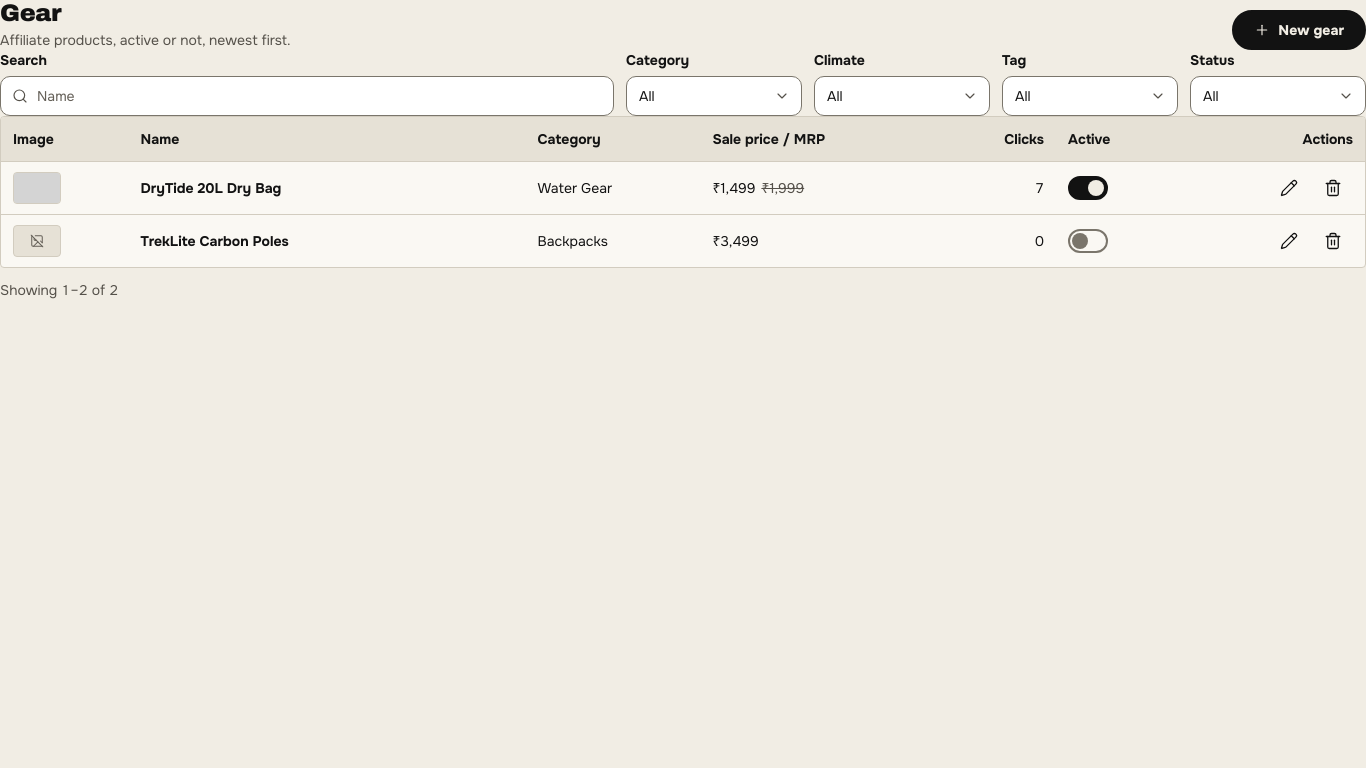
Test: GearPage › deletes an item after asking, naming it
This screenshot has width=1366, height=768.
expect the text "DryTide 20L Dry Bag" is shown: met, box 129,162 -> 526,215
Click the button named "Delete DryTide 20L Dry Bag": (1333, 188) 1313,168 -> 1353,208
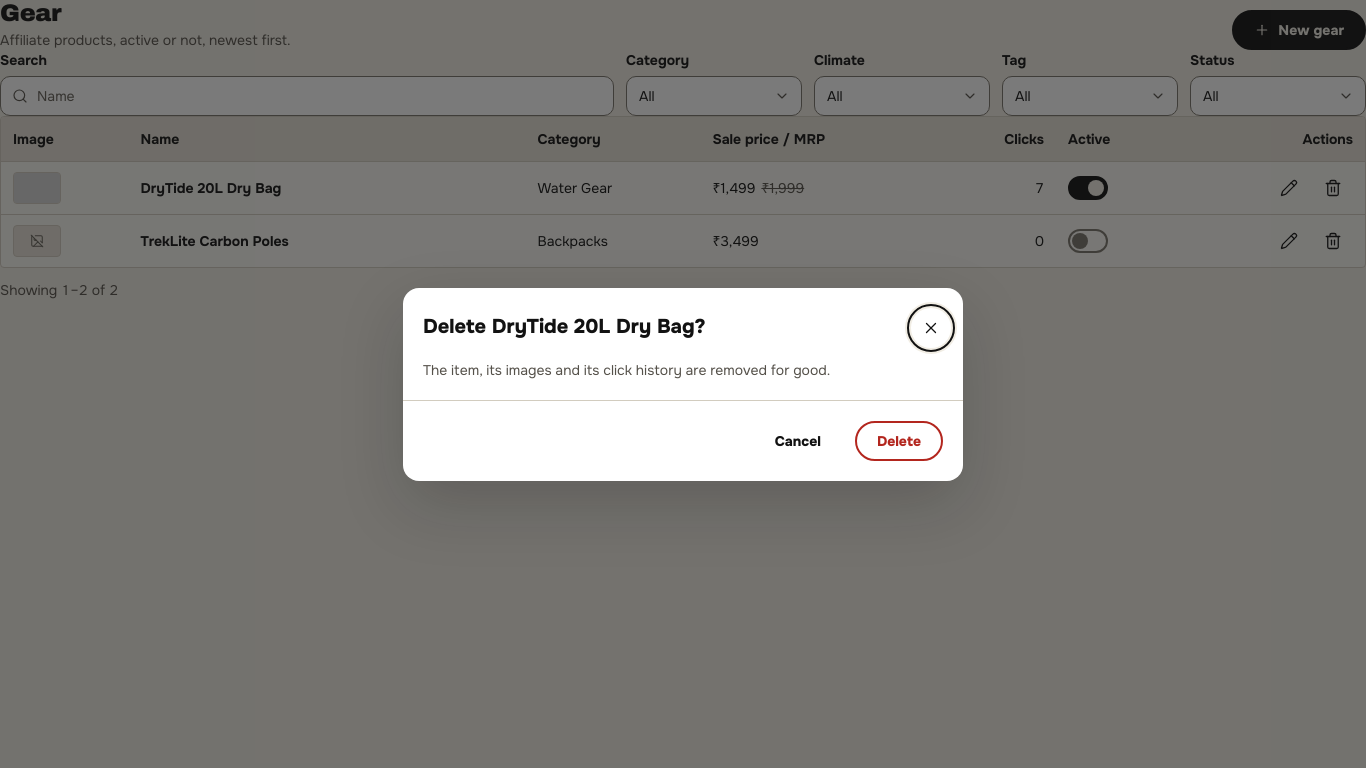
Click the button "Delete": (899, 440) 855,420 -> 943,460
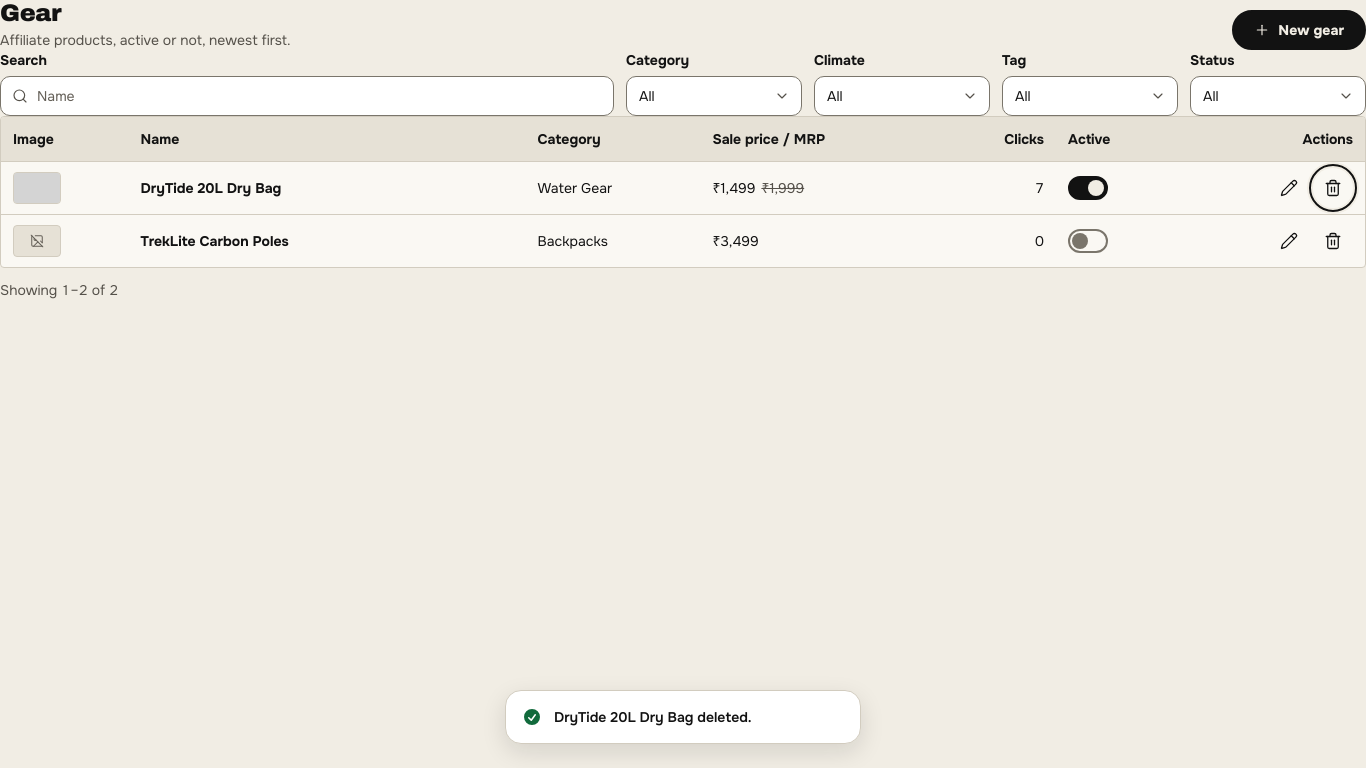
expect the dialog is gone: met
